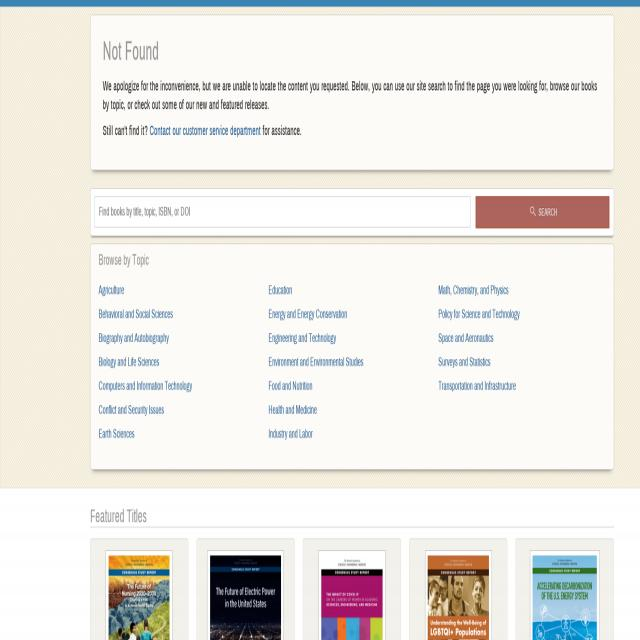button: (207, 551, 284, 640), (530, 551, 600, 640), (318, 550, 386, 640), (106, 549, 172, 640), (426, 550, 491, 640), (476, 196, 609, 228)
field: (95, 198, 470, 228)
